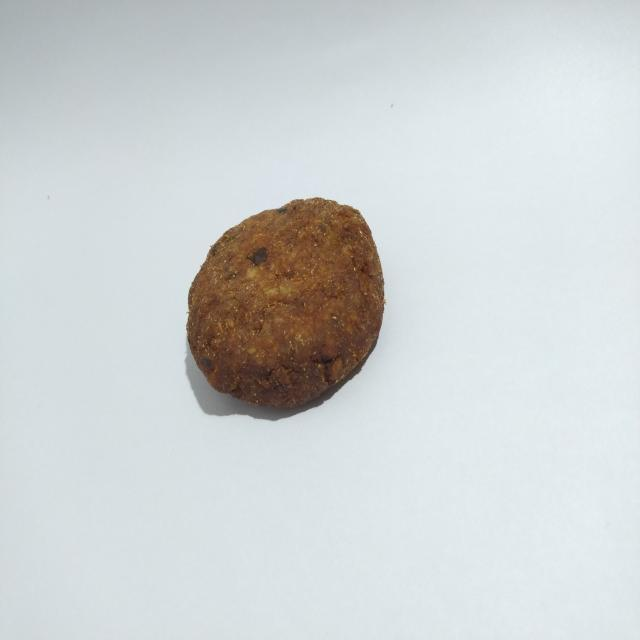Food: (173, 190, 395, 424)
